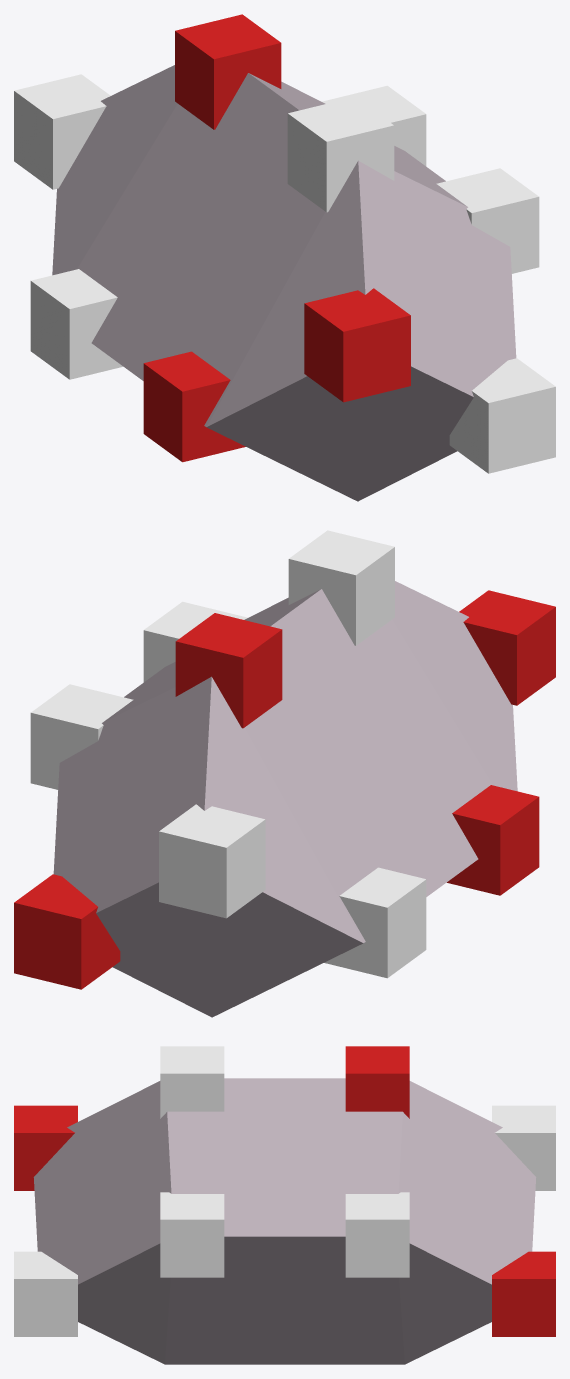
The model's file is stack-aluminium-hydroxide.glb.
3 views of the same model, one above another, from view 1: azimuth 30°, elevation 25°; view 2: azimuth 150°, elevation 25°; view 3: azimuth 270°, elevation 25° (orthographic). The views are drawn at different scales.
Visible parts, largest first — view 1: Cube.030; view 2: Cube.030; view 3: Cube.030.
Part boxes in pixels (left/top/right/bottom): Cube.030: left=14, top=14, right=555, bottom=501; Cube.030: left=14, top=530, right=555, bottom=1017; Cube.030: left=14, top=1046, right=555, bottom=1364.
Size of the model in its own units: 2.5 by 2.48 by 4.
1 material, 1 textured.
